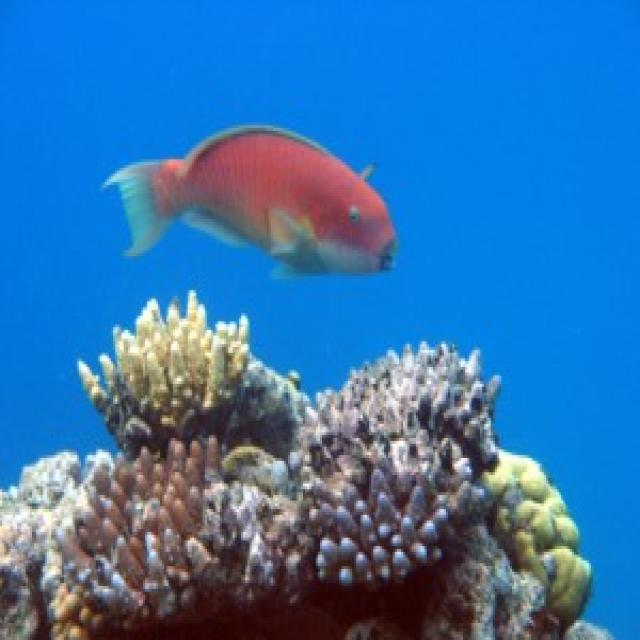Bleached: (82, 294, 246, 448), (1, 453, 78, 556)
Healthy: (27, 439, 280, 638), (300, 450, 483, 587), (485, 453, 592, 627), (319, 345, 494, 442)
